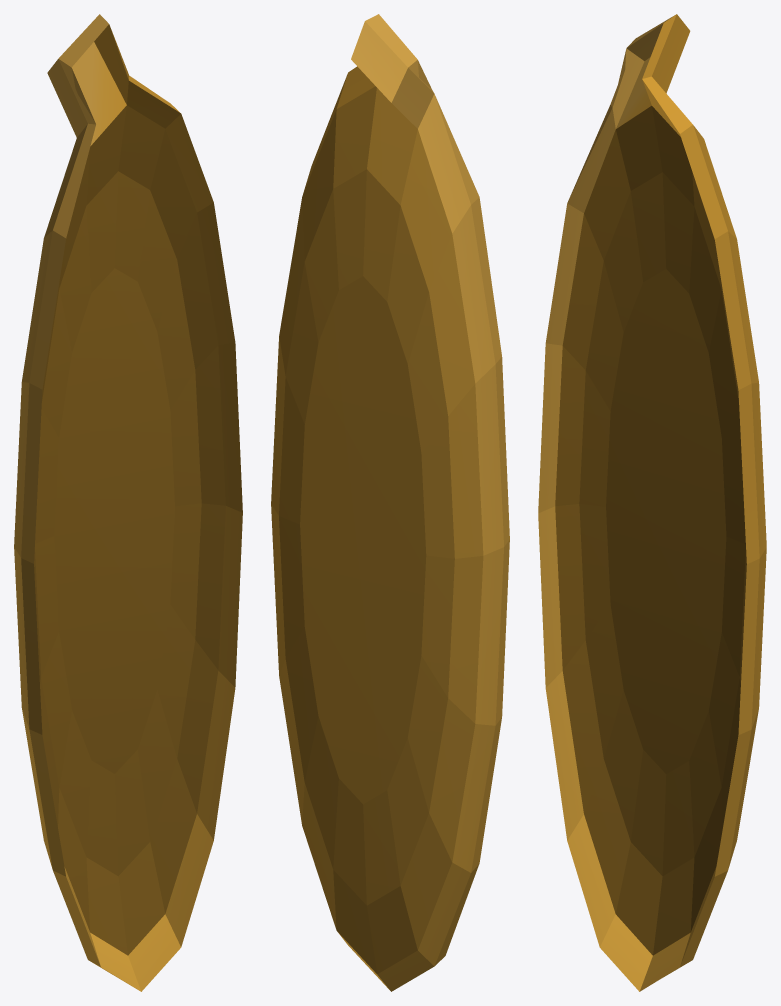
Rendered from t4StopWatchDoor.fbx.
3 views of the same model, side by side, from view 1: azimuth 30°, elevation 25°; view 2: azimuth 150°, elevation 25°; view 3: azimuth 330°, elevation 25° (orthographic). The views are drawn at different scales.
Visible parts, largest first — view 1: FrMaz Pocketwatch Door; view 2: FrMaz Pocketwatch Door; view 3: FrMaz Pocketwatch Door.
Part boxes in pixels (x1,y1,x2,y2): FrMaz Pocketwatch Door: [14, 14, 242, 991]; FrMaz Pocketwatch Door: [271, 14, 509, 991]; FrMaz Pocketwatch Door: [538, 14, 766, 991].
Bounding box in the file's own units: 800 × 3361 × 340.
